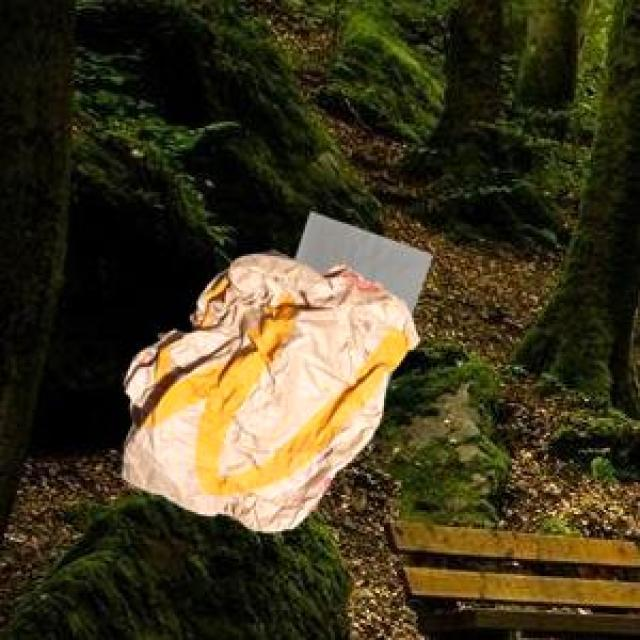Paper_Bag: (118, 248, 417, 530), (291, 208, 430, 312)
